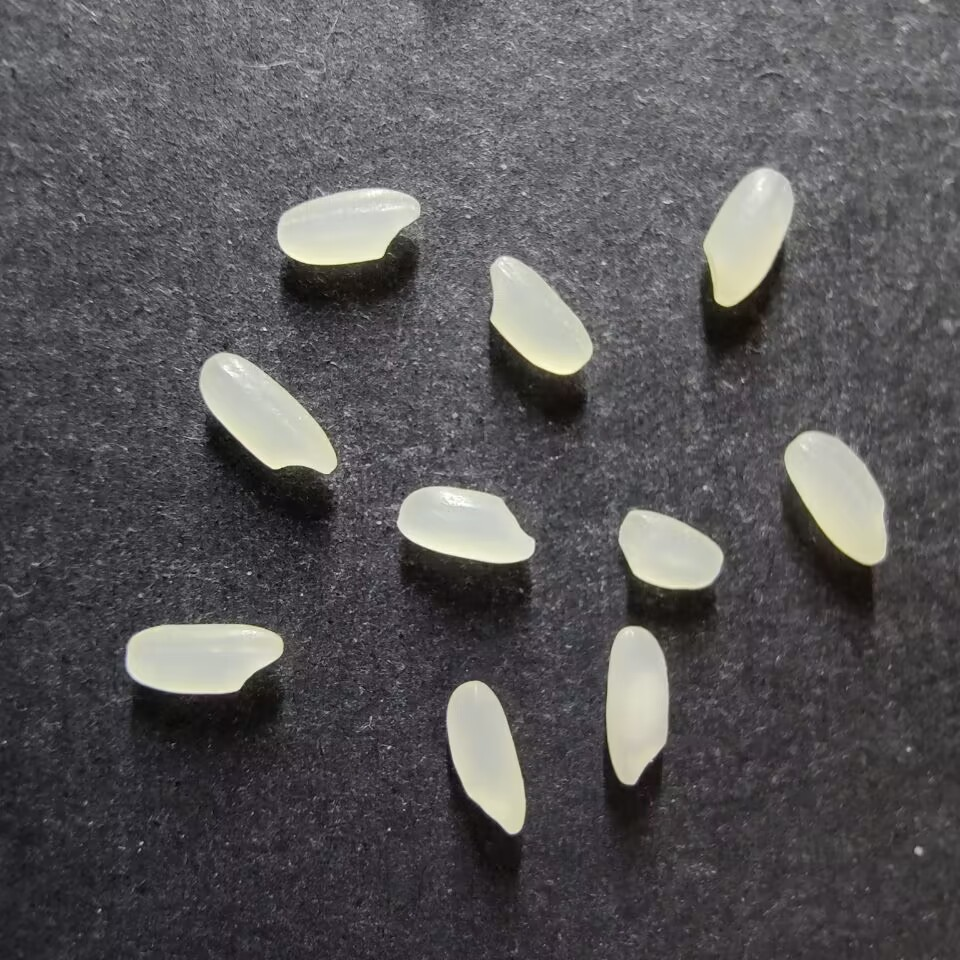broken: (617, 509, 723, 590)
rice: (198, 352, 337, 474), (783, 430, 888, 565), (702, 167, 794, 307), (488, 255, 593, 375), (445, 680, 525, 836), (124, 623, 284, 695), (276, 187, 421, 266), (396, 486, 535, 564), (605, 625, 669, 787)
